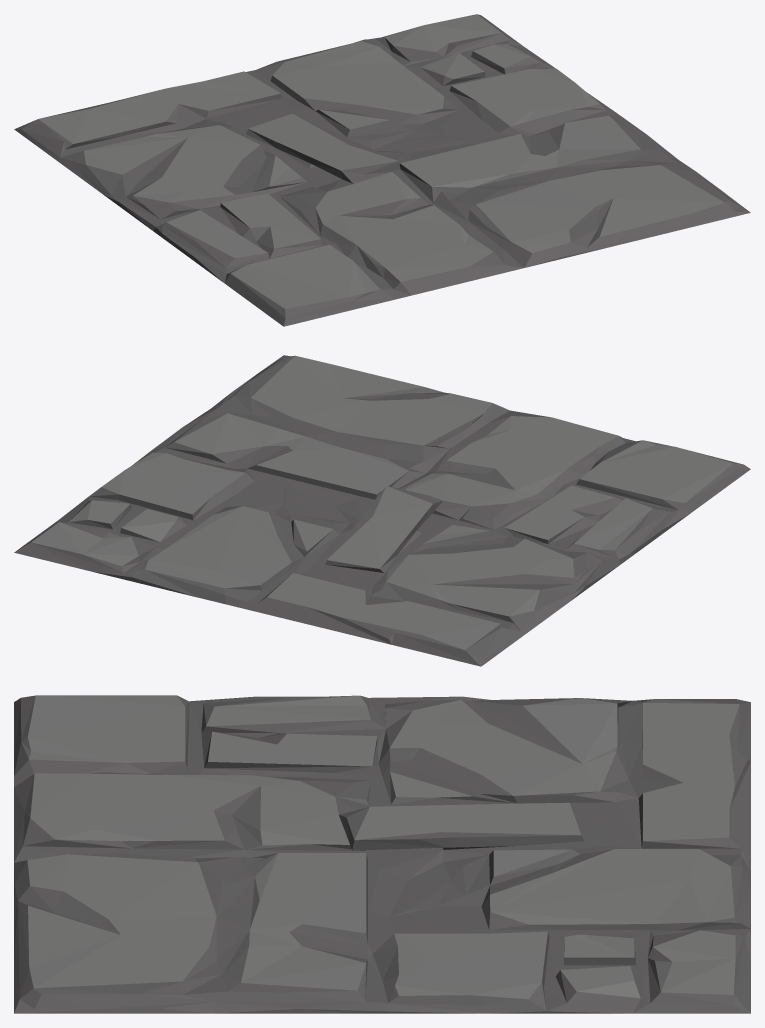
File: SM_Env_Tiles_02.FBX
3 views of the same model, one above another, from view 1: azimuth 30°, elevation 25°; view 2: azimuth 150°, elevation 25°; view 3: azimuth 270°, elevation 25° (orthographic). The views are drawn at different scales.
Visible parts, largest first — view 1: SM_Env_Tiles_02; view 2: SM_Env_Tiles_02; view 3: SM_Env_Tiles_02.
Boxes of the visible parts, x1,y1,x2,y2 form: SM_Env_Tiles_02: (14,14,750,326); SM_Env_Tiles_02: (14,355,750,666); SM_Env_Tiles_02: (14,695,750,1013).
Size of what is drawn, in the model's own units: 500 by 500 by 16.73.
